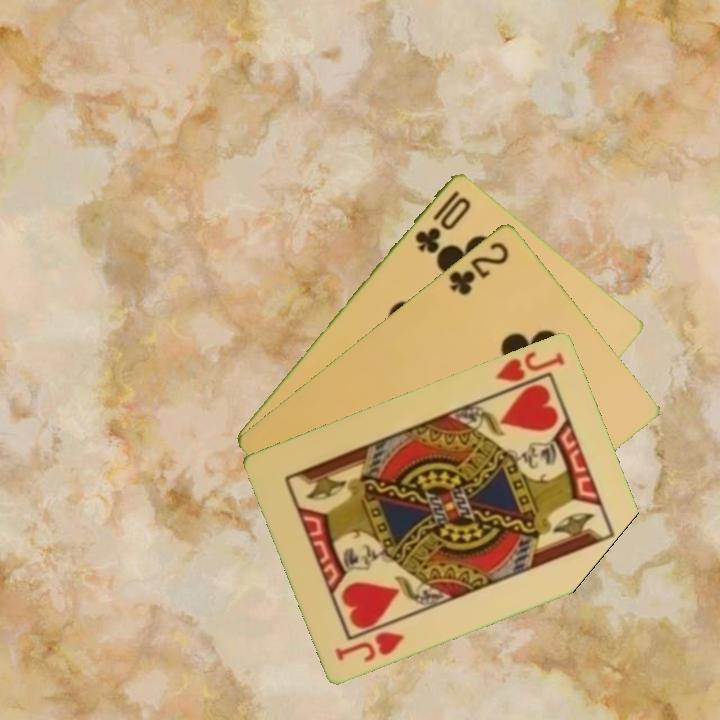10c: (411, 186, 474, 256)
2c: (445, 237, 512, 298)
Jh: (331, 627, 408, 665), (492, 347, 568, 385)
